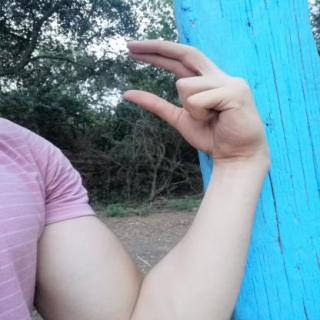DHELL: (111, 32, 272, 163)
